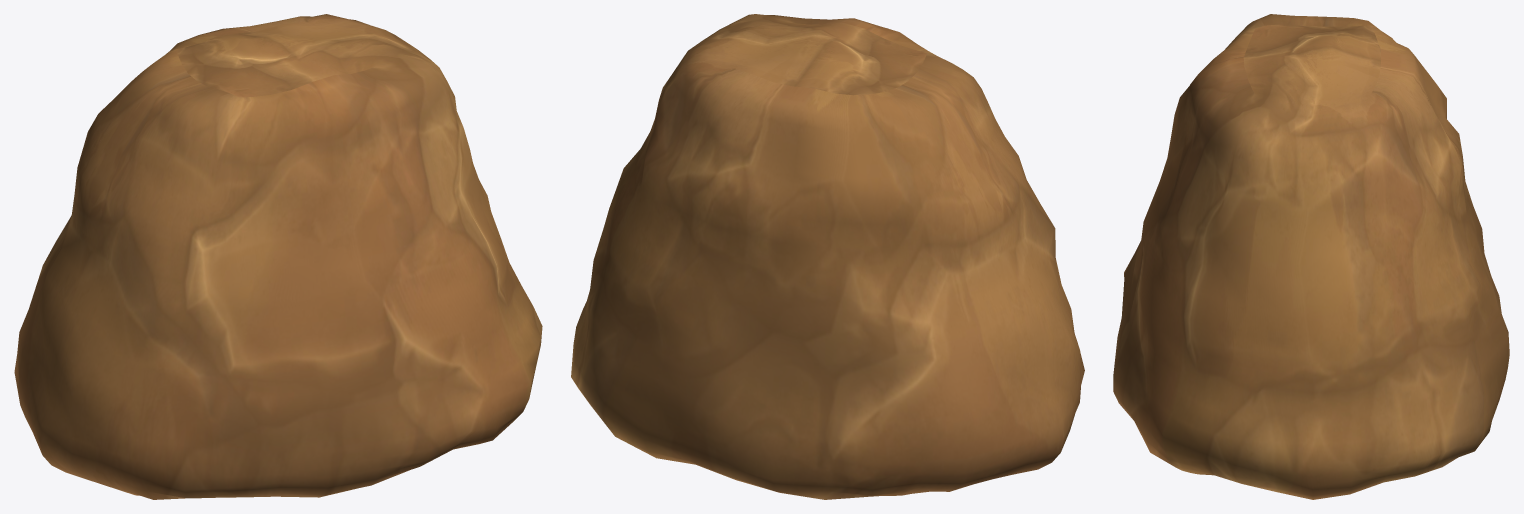
Rendered from Low_islands1.fbx.
3 views of the same model, side by side, from view 1: azimuth 30°, elevation 25°; view 2: azimuth 150°, elevation 25°; view 3: azimuth 270°, elevation 25° (orthographic). The views are drawn at different scales.
Visible parts, largest first — view 1: Cube; view 2: Cube; view 3: Cube.
Part boxes in pixels (bbox=[...]): Cube: bbox=[14, 14, 542, 499]; Cube: bbox=[571, 14, 1084, 499]; Cube: bbox=[1113, 14, 1509, 499].
Bounding box in the file's own units: 1333 × 1075 × 1017.
Materials: 1 (1 with a texture image).
